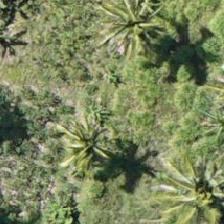coconut_tree: (107, 4, 197, 94)
